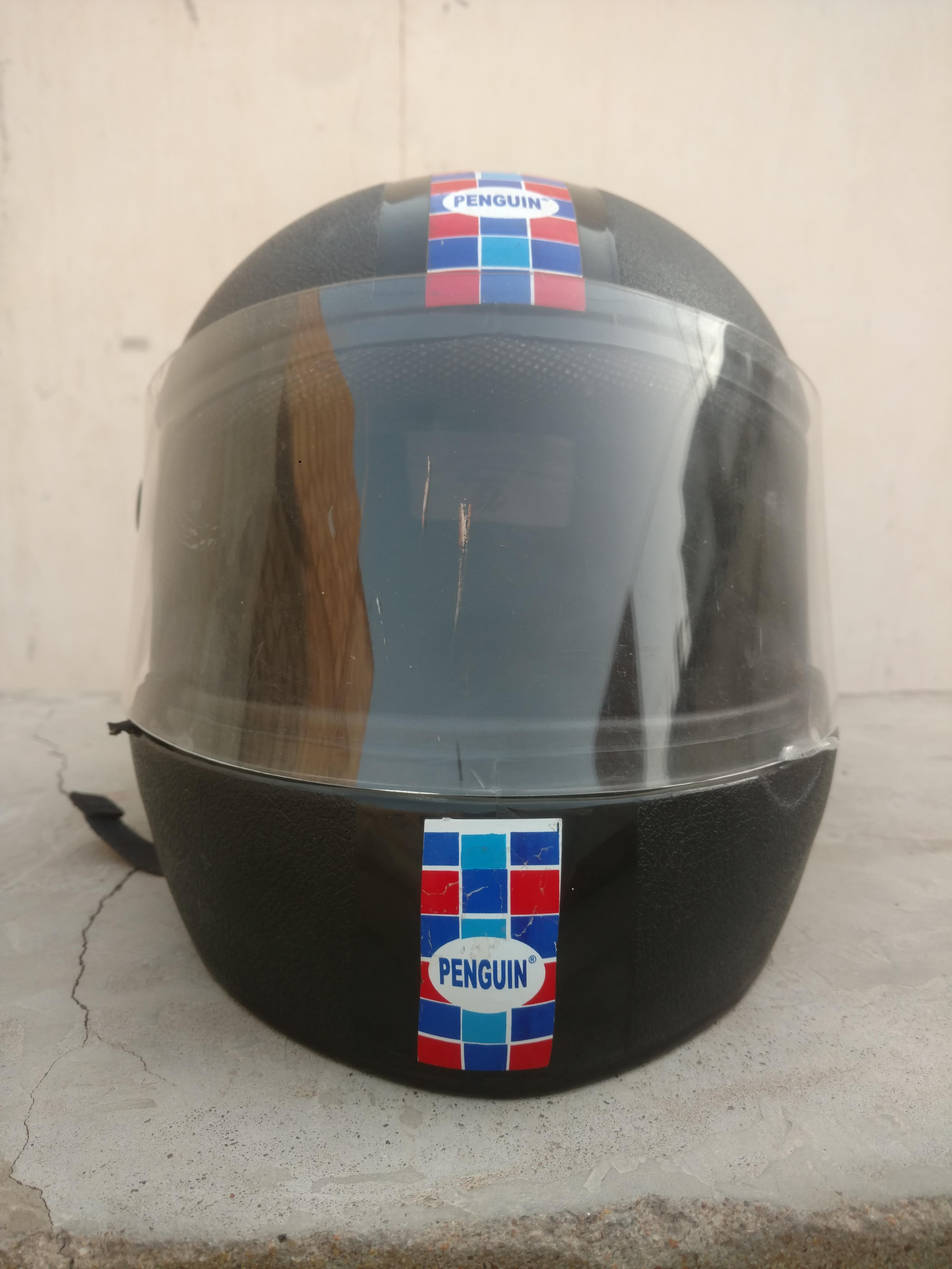helmet: (95, 133, 903, 1099)
